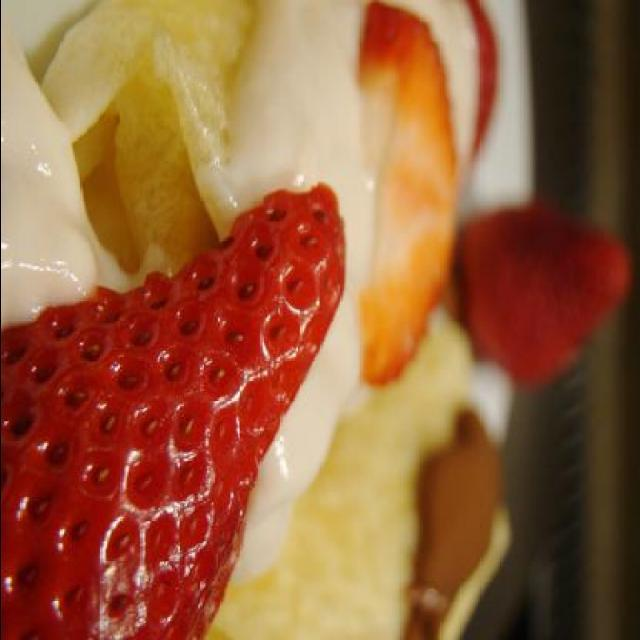Strawberry: (2, 165, 366, 617), (358, 7, 460, 391), (450, 203, 634, 386)
